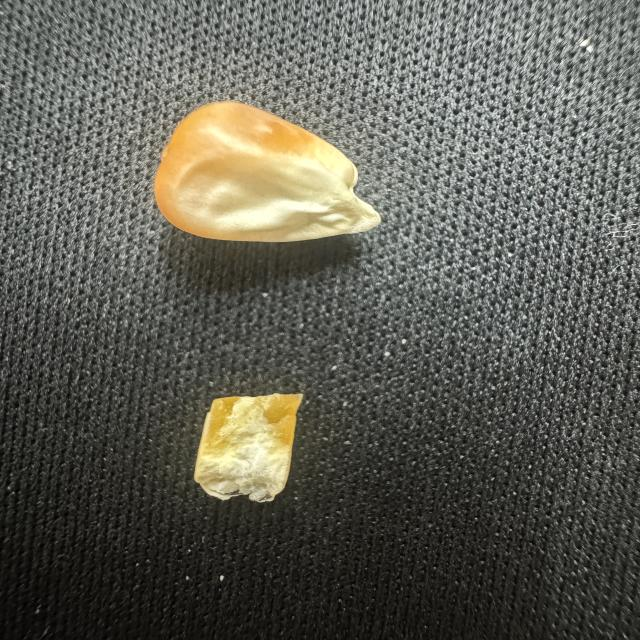Bad-Seed: (140, 91, 394, 262), (166, 383, 326, 508)
